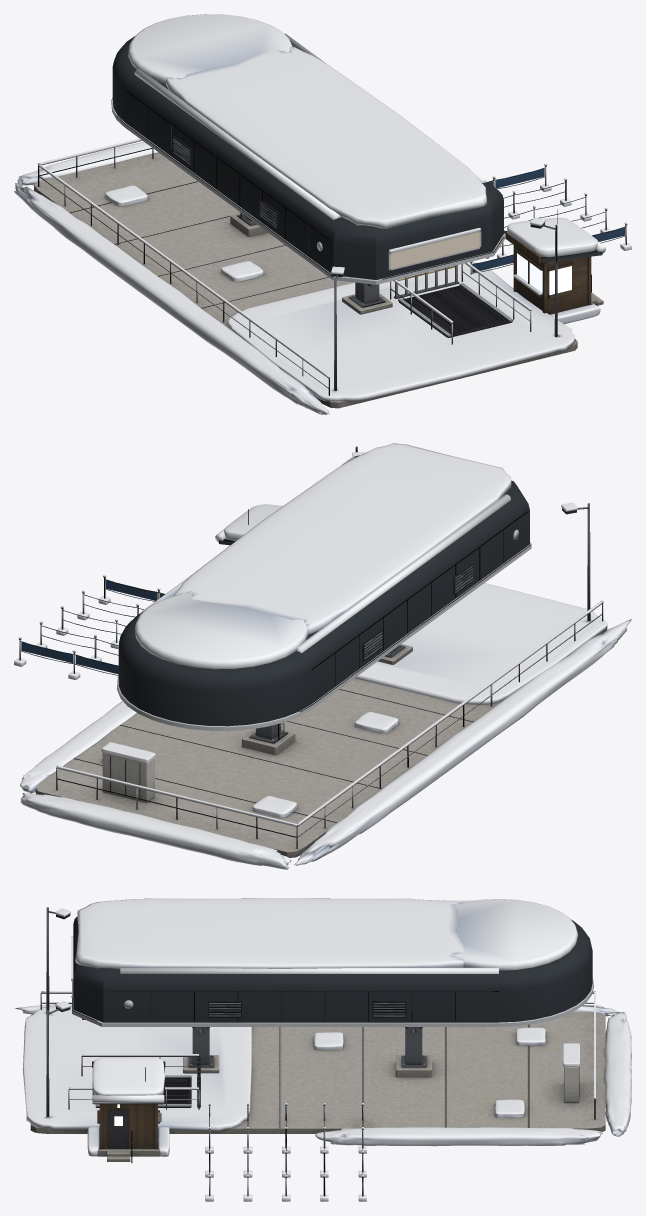
File: terminal_detach.glb
3 views of the same model, one above another, from view 1: azimuth 30°, elevation 25°; view 2: azimuth 150°, elevation 25°; view 3: azimuth 270°, elevation 25° (orthographic). The views are drawn at different scales.
Parts seen in each view (by area): view 1: terminal_detach_snow, terminal_detach, terminal_detach_paint, terminal_detach_flat, terminal_detach_lit; view 2: terminal_detach_snow, terminal_detach, terminal_detach_paint; view 3: terminal_detach_snow, terminal_detach, terminal_detach_paint.
Part boxes in pixels (box(x1,y1,x2,y2)): terminal_detach_snow: box(14, 14, 631, 414); terminal_detach: box(34, 90, 627, 408); terminal_detach_paint: box(112, 36, 503, 279); terminal_detach_flat: box(390, 232, 479, 268); terminal_detach_lit: box(517, 253, 571, 294); terminal_detach_snow: box(14, 443, 631, 869); terminal_detach: box(19, 446, 607, 857); terminal_detach_paint: box(118, 455, 529, 726); terminal_detach_snow: box(14, 898, 631, 1201); terminal_detach: box(30, 907, 605, 1196); terminal_detach_paint: box(73, 916, 592, 1022).
Size of the model in its own units: 21.41 by 8.16 by 29.03.
Materials: 6 (1 with a texture image).
